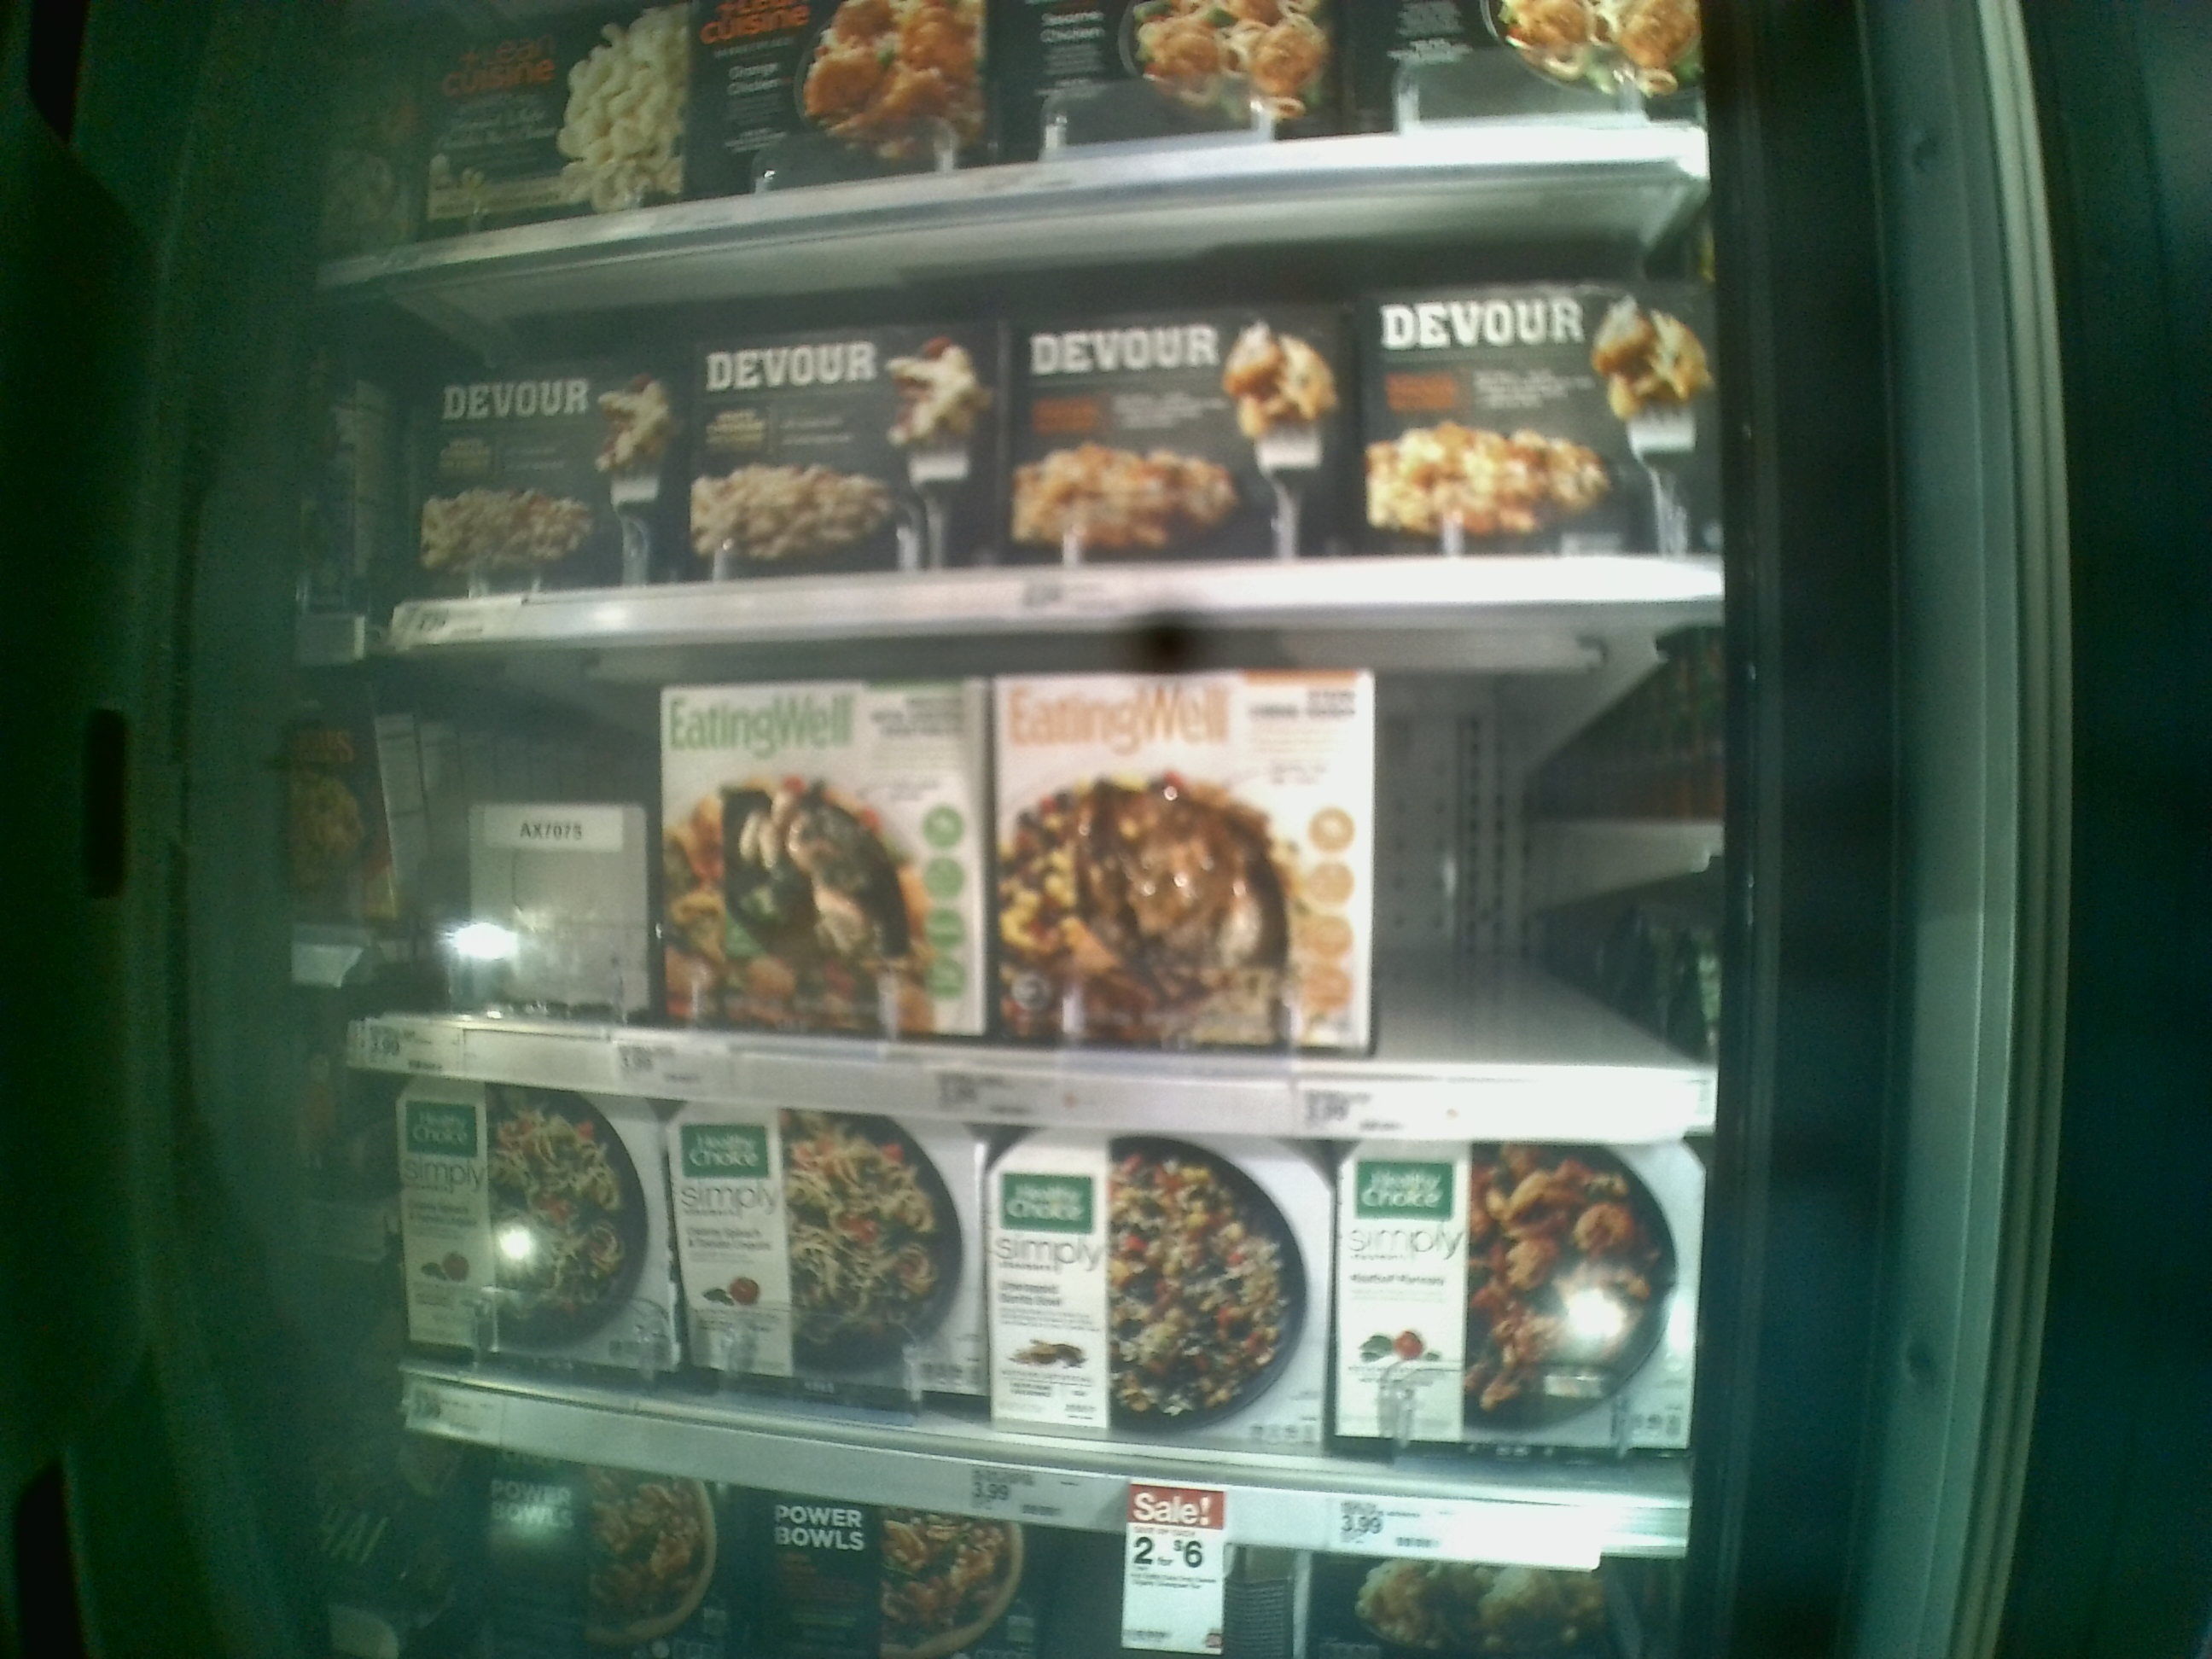pizza: (993, 664, 1366, 1044), (653, 683, 974, 1040), (1334, 1145, 1695, 1453), (989, 1136, 1336, 1445), (1359, 284, 1728, 542), (681, 1114, 988, 1422), (681, 315, 1014, 580), (1014, 307, 1350, 552), (397, 1086, 678, 1380), (408, 347, 662, 591), (427, 10, 698, 216), (482, 1459, 733, 1657)
